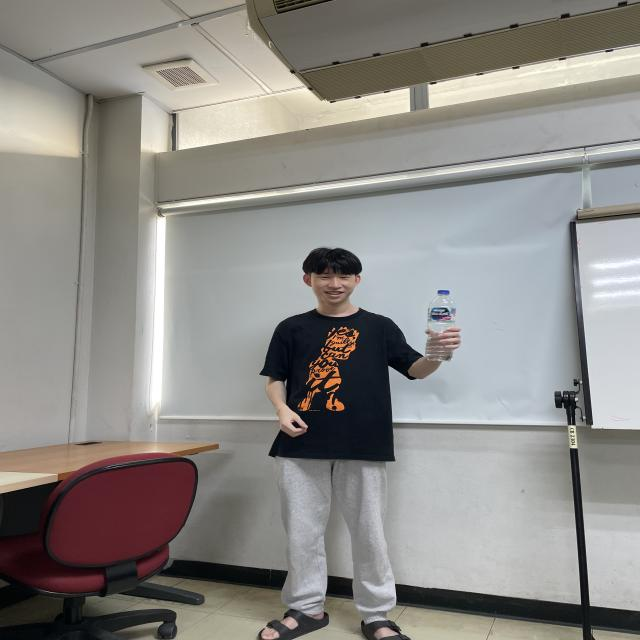bottle: (425, 289, 457, 362)
